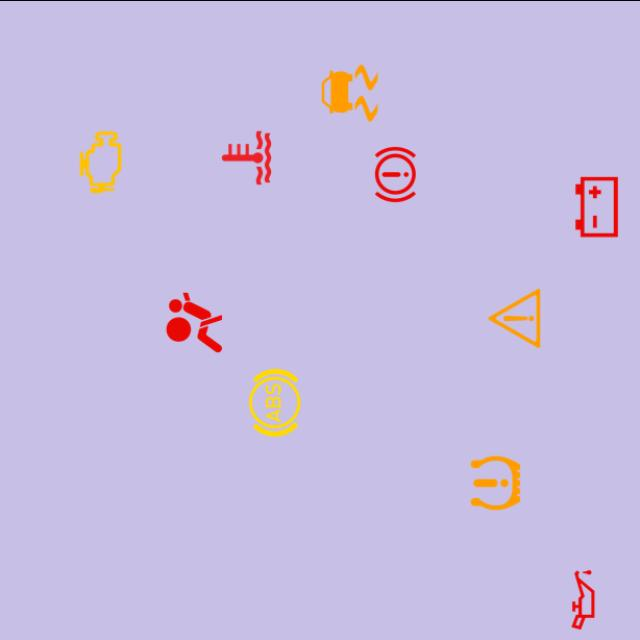Anti Lock Braking System: (238, 365, 312, 439)
Braking System Issue: (358, 137, 432, 210)
Charging System Issue: (560, 169, 634, 243)
Check Engine: (64, 124, 138, 198)
Electronic Stability Problem -ESP-: (313, 55, 387, 129)
Engine Overheating Warning Light: (210, 120, 284, 194)
Low Engine Oil Warning Light: (546, 562, 620, 636)
Low Tire Pressure Warning Light: (458, 445, 532, 519)
Master warning light: (478, 280, 552, 354)
SRS-Airbag: (158, 284, 232, 358)
